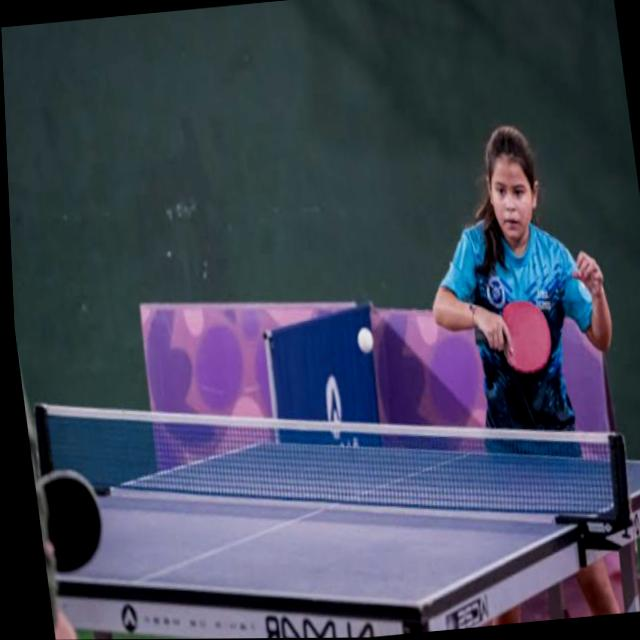TT Net: (32, 395, 631, 544)
TT Racket: (493, 281, 559, 391)
TT Table: (39, 440, 640, 612)
